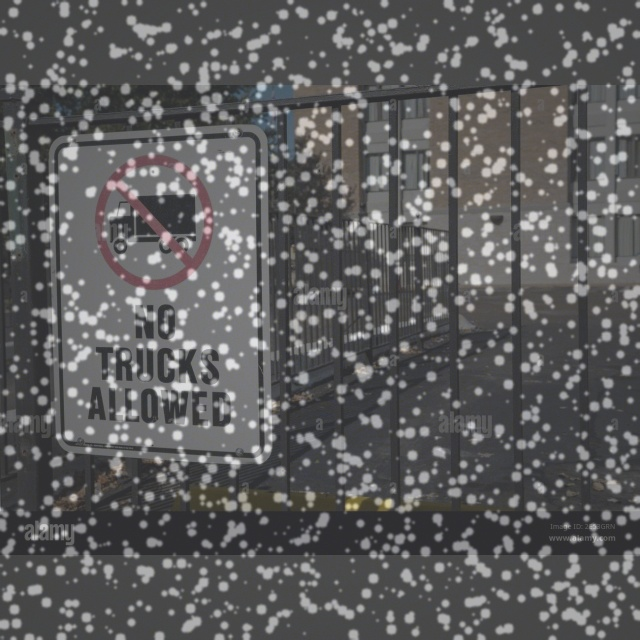Truck_Prohibited: (87, 144, 220, 301)
